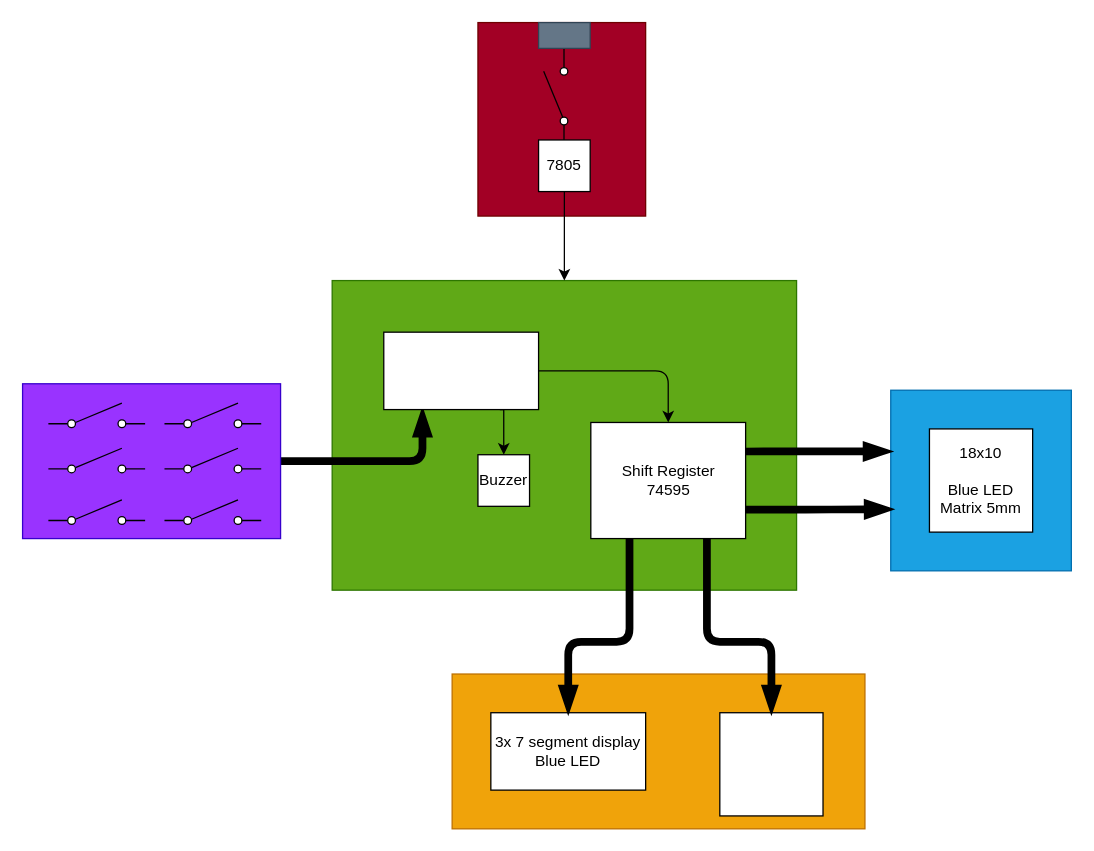
This 1094x851 diagram has some shape labels left out. Here are the shapes that lost their labels. From the top down, the centre of each, then its label:
At (460,370): "MCU Atmega328p".
At (771,763): "4x4 Blue LED Matrix 5mm".
